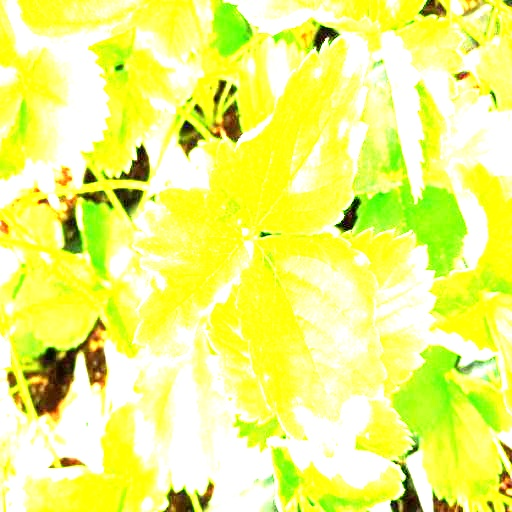Powdery Mildew Leaf: (233, 230, 389, 460), (204, 31, 372, 237), (128, 185, 249, 364)
